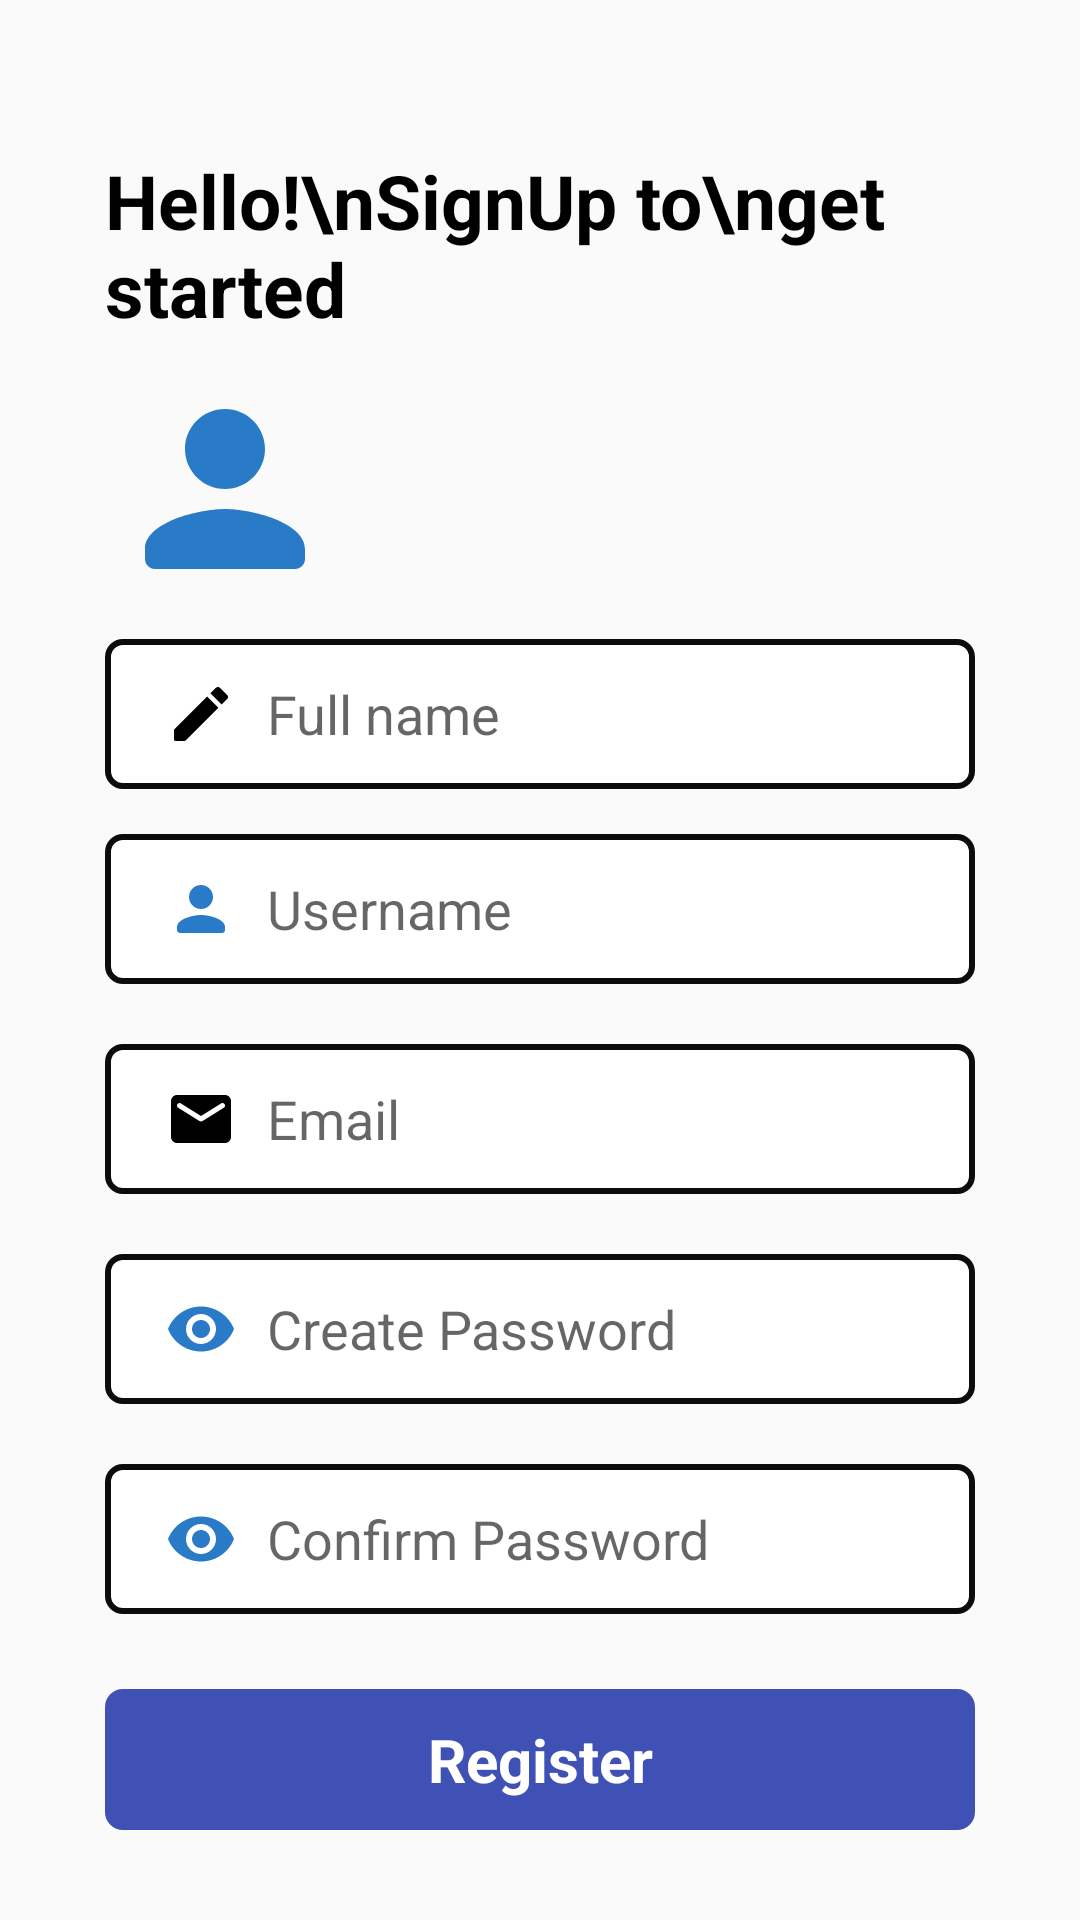

Icons on this 1080 × 1920 Android screen, each with the point to tap as point (x, y):
person: point (225, 489)
